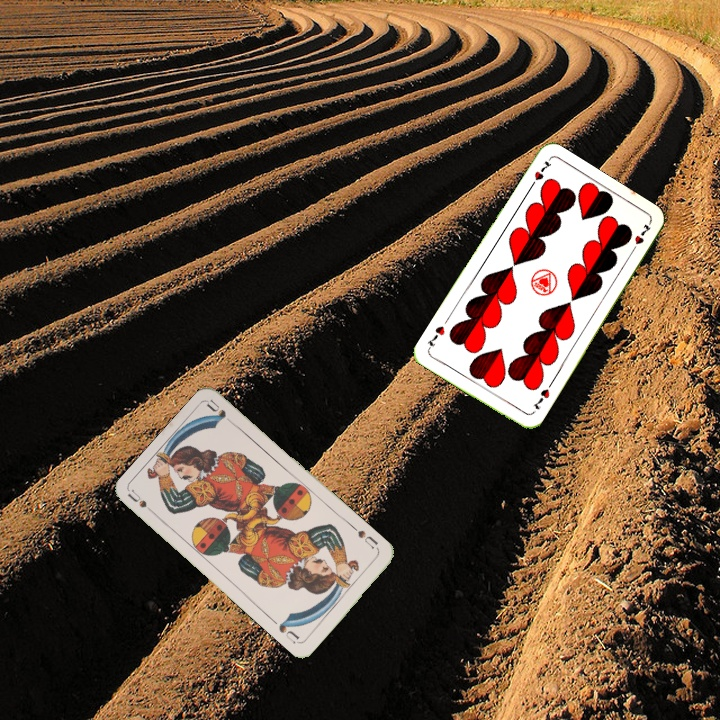H7: (525, 157, 554, 192), (529, 385, 552, 412)
SU: (124, 486, 160, 519), (353, 526, 381, 551)
